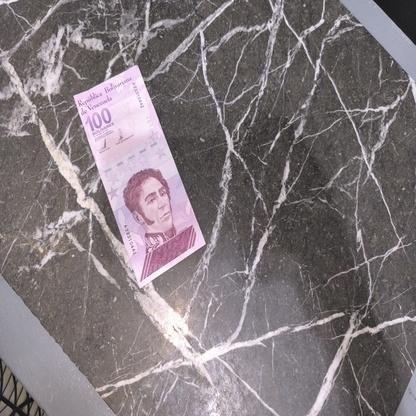one_hundred-front-vef: (73, 64, 207, 289)
